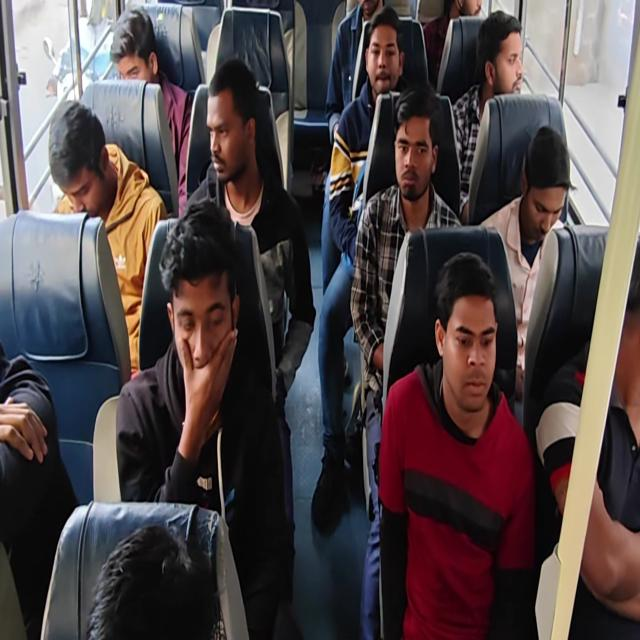person: (1, 1, 638, 638), (115, 197, 295, 638), (184, 57, 316, 539), (349, 82, 463, 638), (377, 251, 537, 638), (311, 6, 408, 534), (535, 234, 639, 634), (48, 100, 168, 376), (478, 124, 574, 398), (0, 338, 79, 638), (328, 7, 407, 261), (109, 6, 193, 218), (86, 523, 220, 639), (451, 10, 524, 220), (325, 0, 385, 145), (422, 0, 484, 90)
